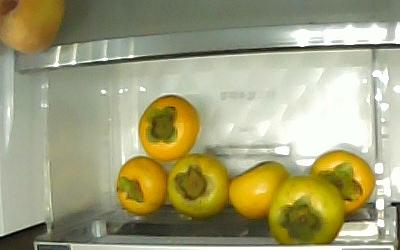persimmon: (268, 175, 344, 244), (306, 151, 375, 214), (140, 94, 199, 160), (167, 155, 229, 216), (227, 160, 290, 219), (114, 157, 167, 213)
